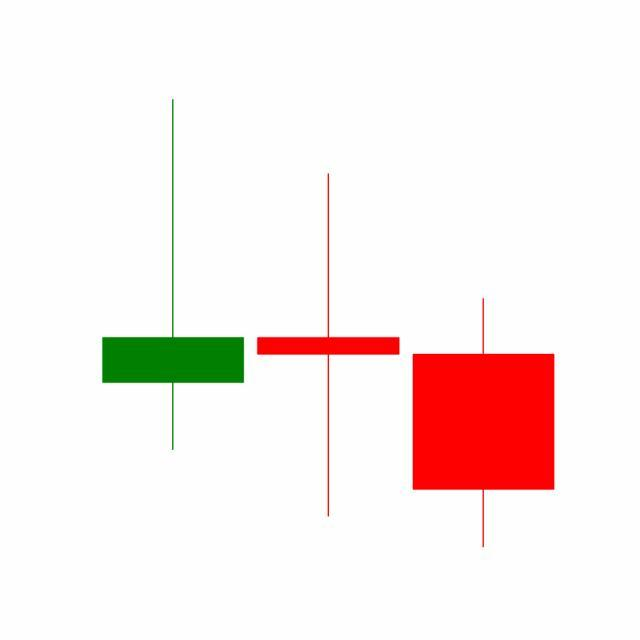Spinning Top: (250, 169, 407, 521)
